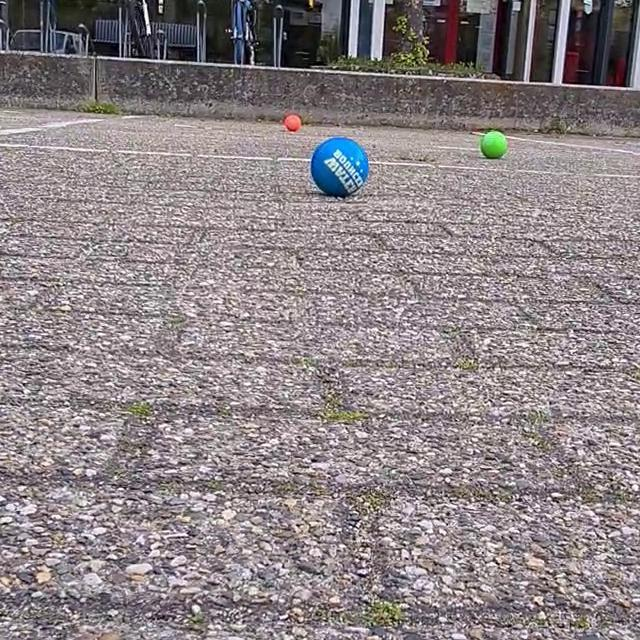ball: (479, 129, 511, 162), (280, 110, 305, 135)
